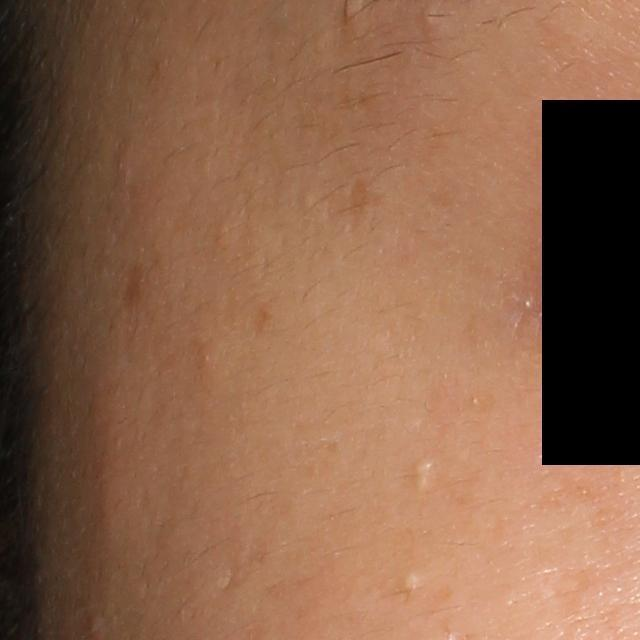comedo: (394, 562, 427, 598), (413, 456, 436, 491)
